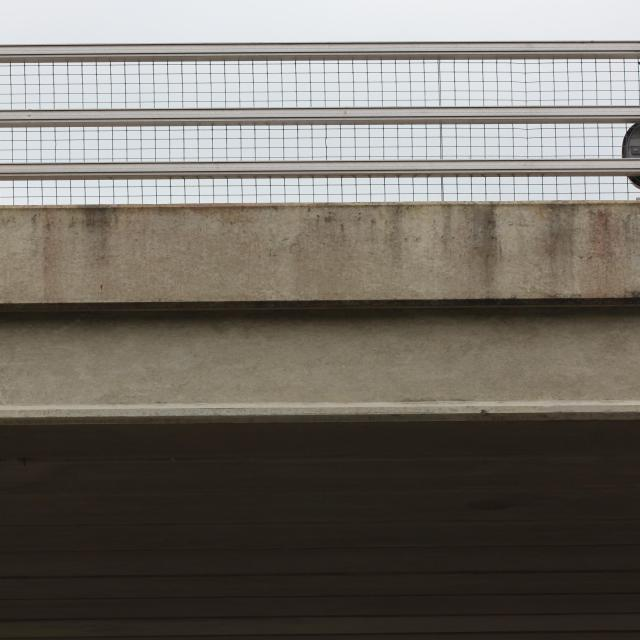horizontal crack: (484, 289, 640, 298), (27, 296, 197, 304)
